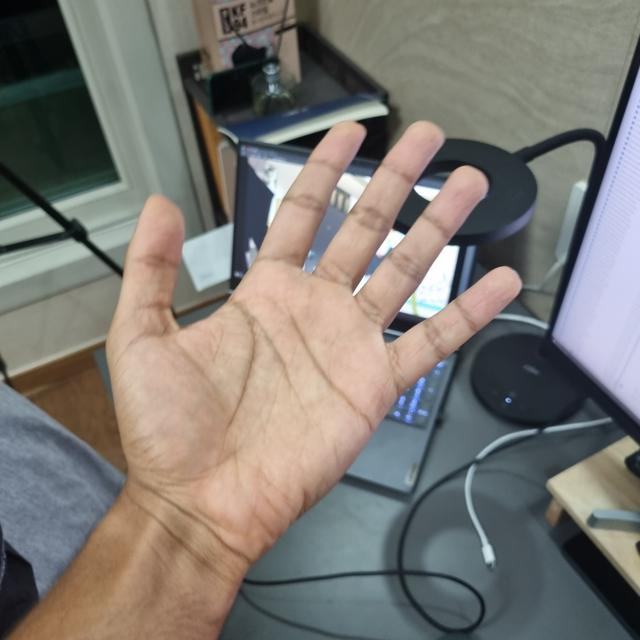Paper: (105, 120, 520, 558)
